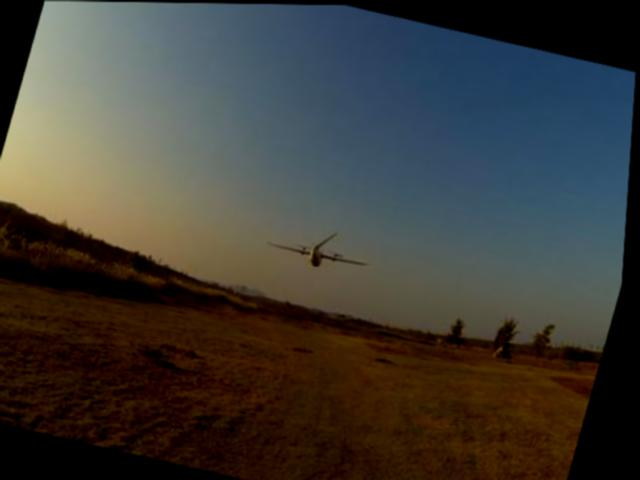uav: (263, 213, 388, 289)
